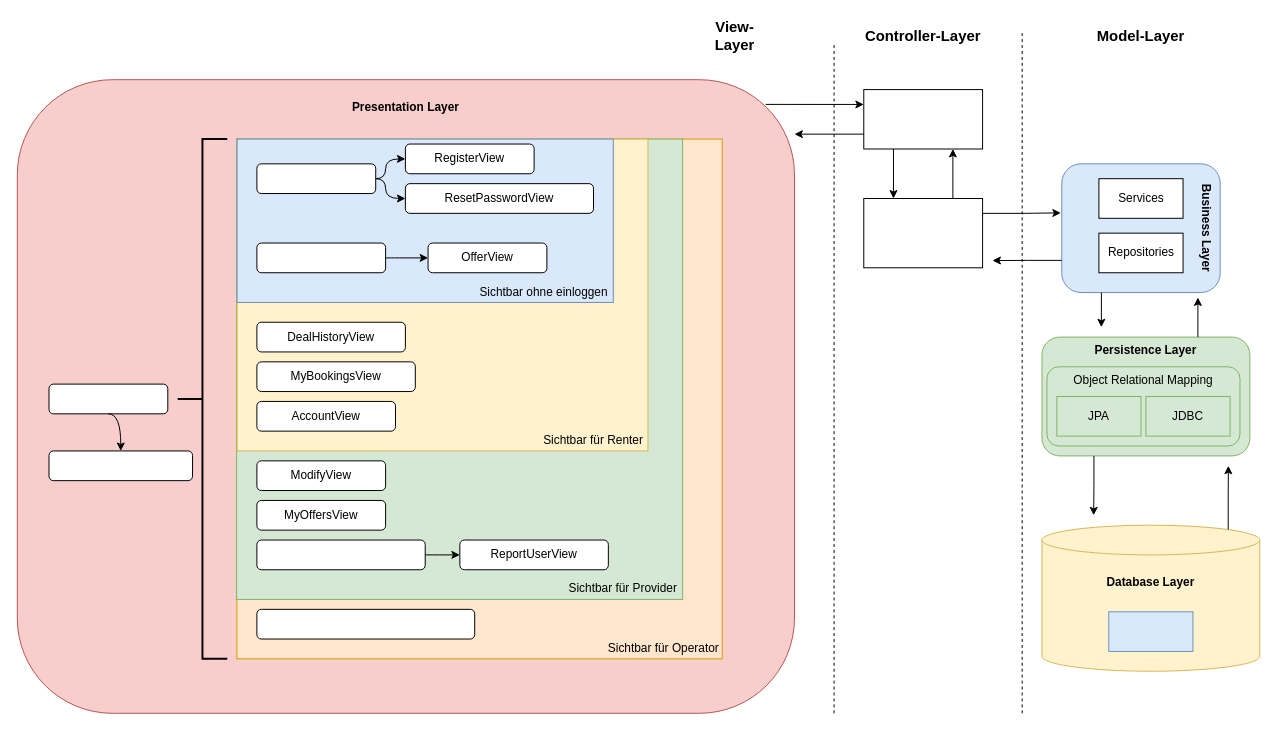
The diagram is 1277 pixels wide and 732 high, and some of its shapes have lost their labels. Here are the shapes that lost their labels. From the top down, the centre of each, then its label:
(x=923, y=119): ViewController
(x=316, y=178): LoginView
(x=923, y=233): Controller
(x=321, y=257): RentingView
(x=108, y=398): MainView
(x=120, y=465): NavigationView
(x=340, y=554): ExcludeRenterView
(x=365, y=623): ApproveNewProvidersView
(x=1150, y=631): MariaDB
